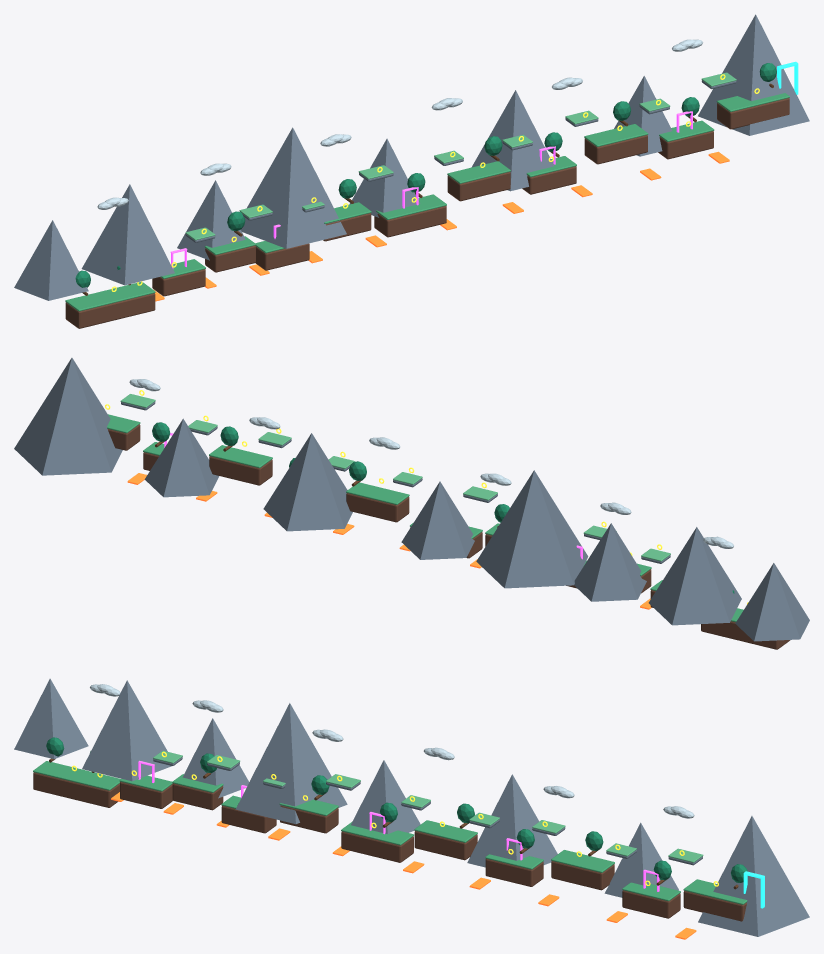
File: kenney-verdant-platformer-world.glb
The picture shows the model from 3 angles, top to bottom: view 1: azimuth 30°, elevation 25°; view 2: azimuth 150°, elevation 25°; view 3: azimuth 330°, elevation 25°; orthographic projection.
Visible parts, largest first — view 1: background-mountain-3, background-mountain-1, background-mountain-7, background-mountain-5, background-mountain-0, background-mountain-4, background-mountain-2, platform-ground-0, background-mountain-6, platform-ground-5, platform-ground-10, platform-grass-top-0 (+13 smaller); view 2: background-mountain-3, background-mountain-7, background-mountain-1, background-mountain-5, background-mountain-0, background-mountain-4, background-mountain-2, background-mountain-6, platform-ground-8, platform-ground-6, platform-ground-0, platform-grass-top-8 (+2 smaller); view 3: background-mountain-3, background-mountain-7, background-mountain-1, background-mountain-5, background-mountain-0, background-mountain-4, background-mountain-6, background-mountain-2, platform-ground-0, platform-ground-5, platform-grass-top-0, platform-ground-8 (+14 smaller).
Boxes of the visible parts, bbox=[...] form: background-mountain-3: bbox=[241, 127, 346, 248]; background-mountain-1: bbox=[81, 184, 174, 285]; background-mountain-7: bbox=[698, 14, 809, 135]; background-mountain-5: bbox=[471, 90, 553, 191]; background-mountain-0: bbox=[14, 220, 88, 300]; background-mountain-4: bbox=[349, 138, 420, 217]; background-mountain-2: bbox=[177, 180, 245, 260]; platform-ground-0: bbox=[65, 293, 155, 328]; background-mountain-6: bbox=[614, 76, 672, 156]; platform-ground-5: bbox=[374, 206, 446, 237]; platform-ground-10: bbox=[717, 98, 789, 129]; platform-grass-top-0: bbox=[65, 282, 155, 311]; background-mountain-3: bbox=[476, 470, 588, 588]; background-mountain-7: bbox=[14, 358, 122, 475]; background-mountain-1: bbox=[648, 527, 741, 625]; background-mountain-5: bbox=[263, 433, 352, 531]; background-mountain-0: bbox=[735, 563, 809, 641]; background-mountain-4: bbox=[401, 481, 474, 559]; background-mountain-2: bbox=[574, 523, 646, 601]; background-mountain-6: bbox=[144, 418, 219, 497]; platform-ground-8: bbox=[209, 456, 272, 485]; platform-ground-6: bbox=[346, 493, 409, 522]; platform-ground-0: bbox=[701, 621, 790, 649]; platform-grass-top-8: bbox=[209, 445, 272, 468]; background-mountain-3: bbox=[235, 703, 347, 824]; background-mountain-7: bbox=[698, 816, 809, 936]; background-mountain-1: bbox=[82, 680, 171, 781]; background-mountain-5: bbox=[467, 774, 557, 867]; background-mountain-0: bbox=[14, 678, 88, 759]; background-mountain-4: bbox=[351, 760, 420, 834]; background-mountain-6: bbox=[604, 822, 678, 897]; background-mountain-2: bbox=[182, 718, 249, 798]; platform-ground-0: bbox=[33, 772, 119, 807]; platform-ground-5: bbox=[341, 831, 413, 862]; platform-grass-top-0: bbox=[33, 761, 120, 790]; platform-ground-8: bbox=[551, 861, 614, 890].
Bounding box in the file's own units: 91.51 × 14.4 × 10.85.
